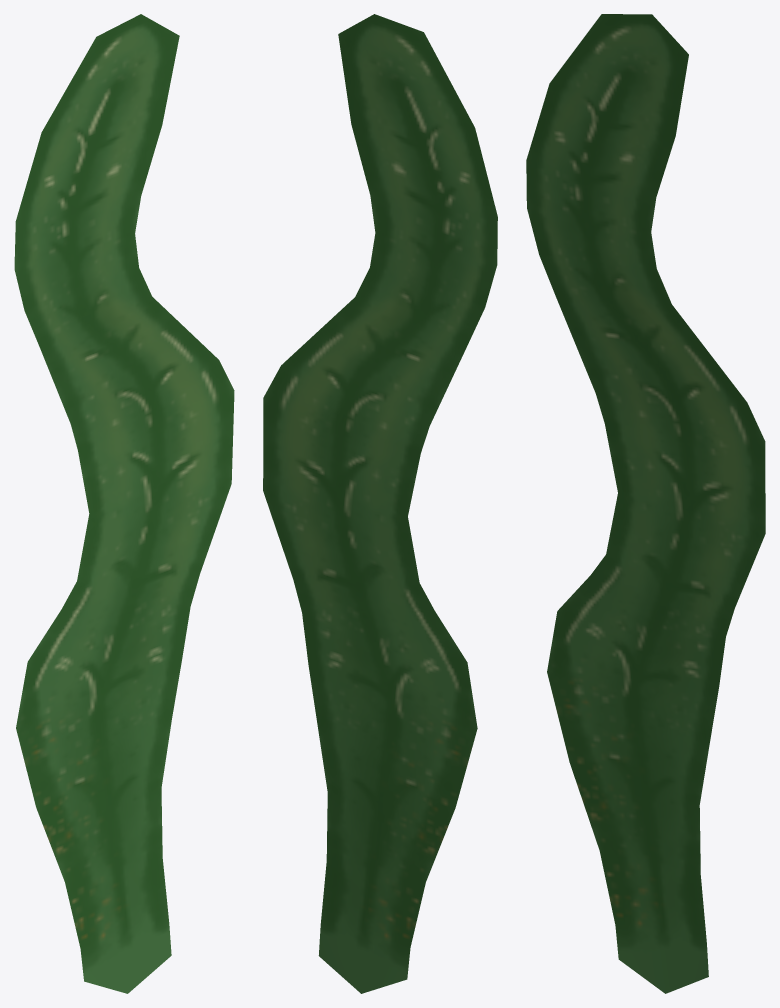
Rendered from Seaweed_Green_001.fbx.
3 renders of one model, left to right at view 1: azimuth 30°, elevation 25°; view 2: azimuth 150°, elevation 25°; view 3: azimuth 330°, elevation 25°, orthographic.
Parts seen in each view (by area): view 1: Seaweed_Green_001; view 2: Seaweed_Green_001; view 3: Seaweed_Green_001.
Part boxes in pixels (x1=…): Seaweed_Green_001: x1=14, y1=14, x2=234, y2=993; Seaweed_Green_001: x1=263, y1=14, x2=497, y2=993; Seaweed_Green_001: x1=526, y1=14, x2=765, y2=993.
Size of the model in its own units: 10.48 by 43.25 by 1.31.
